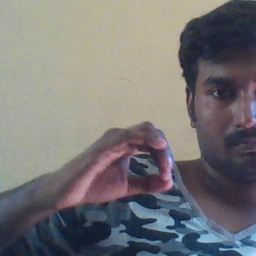O: (58, 120, 177, 208)
